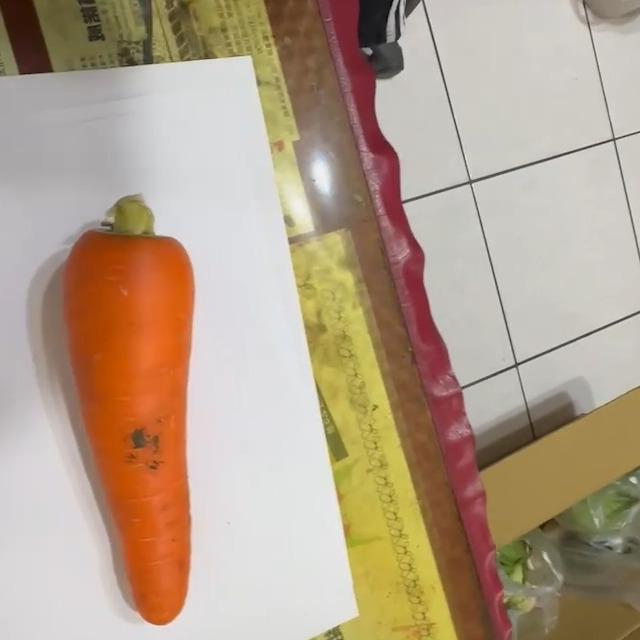carrot: (59, 192, 206, 627)
